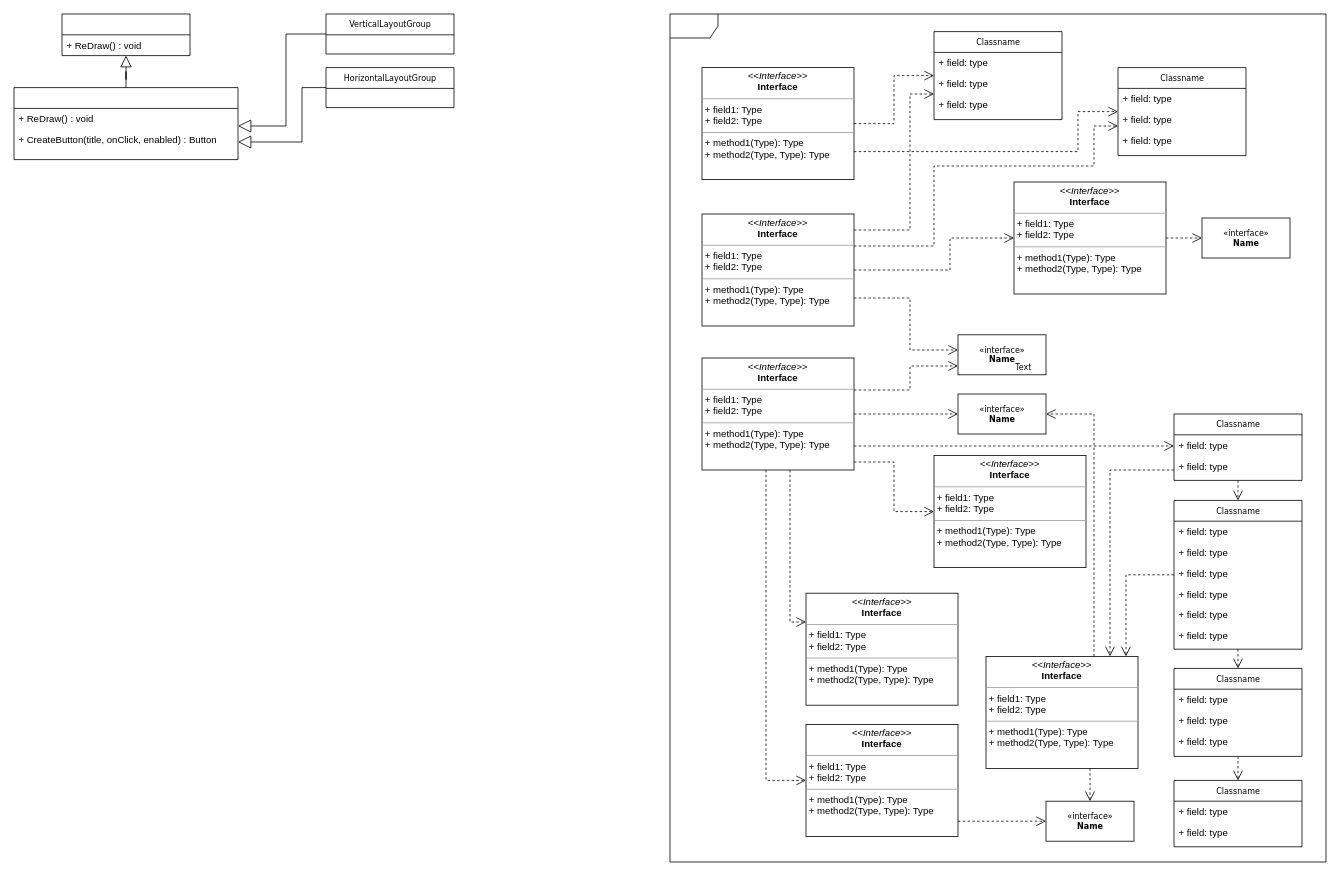
Some shapes in this 1340 by 876 pixel diagram are drawn without their labels. Here are the shapes that lost their labels. From the top down, the box of each, then its label:
(61, 13, 190, 56): DebugElement
(13, 87, 238, 160): LayoutGroup
(669, 13, 1326, 862): frame
